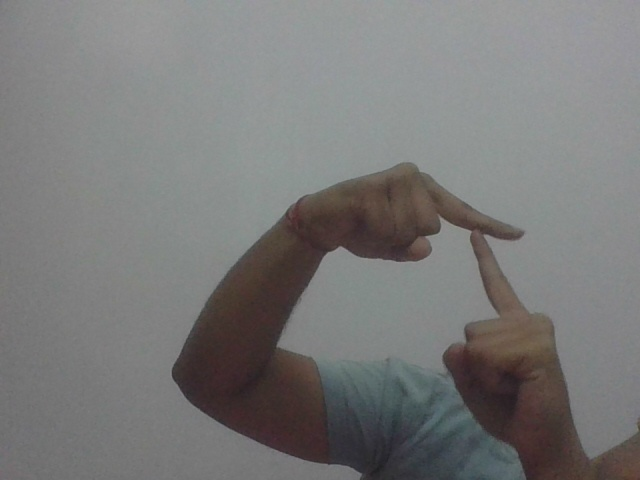T: (316, 157, 553, 404)
